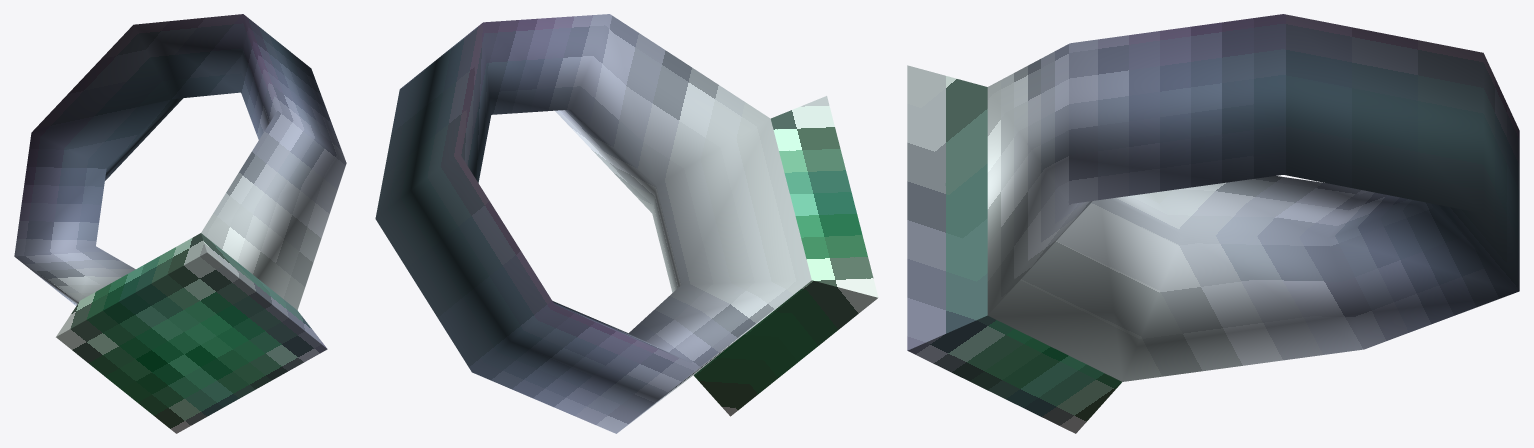
Rendered from Ring02.glb.
3 renders of one model, left to right at view 1: azimuth 30°, elevation 25°; view 2: azimuth 150°, elevation 25°; view 3: azimuth 270°, elevation 25°, orthographic. The views are drawn at different scales.
Parts seen in each view (by area): view 1: model_Ring02; view 2: model_Ring02; view 3: model_Ring02.
Part boxes in pixels (left/top/right/bottom): model_Ring02: left=14, top=14, right=346, bottom=433; model_Ring02: left=375, top=14, right=878, bottom=433; model_Ring02: left=907, top=14, right=1519, bottom=433.
Bounding box in the file's own units: 0.1995 × 0.1995 × 0.2124.
1 material, 1 textured.
